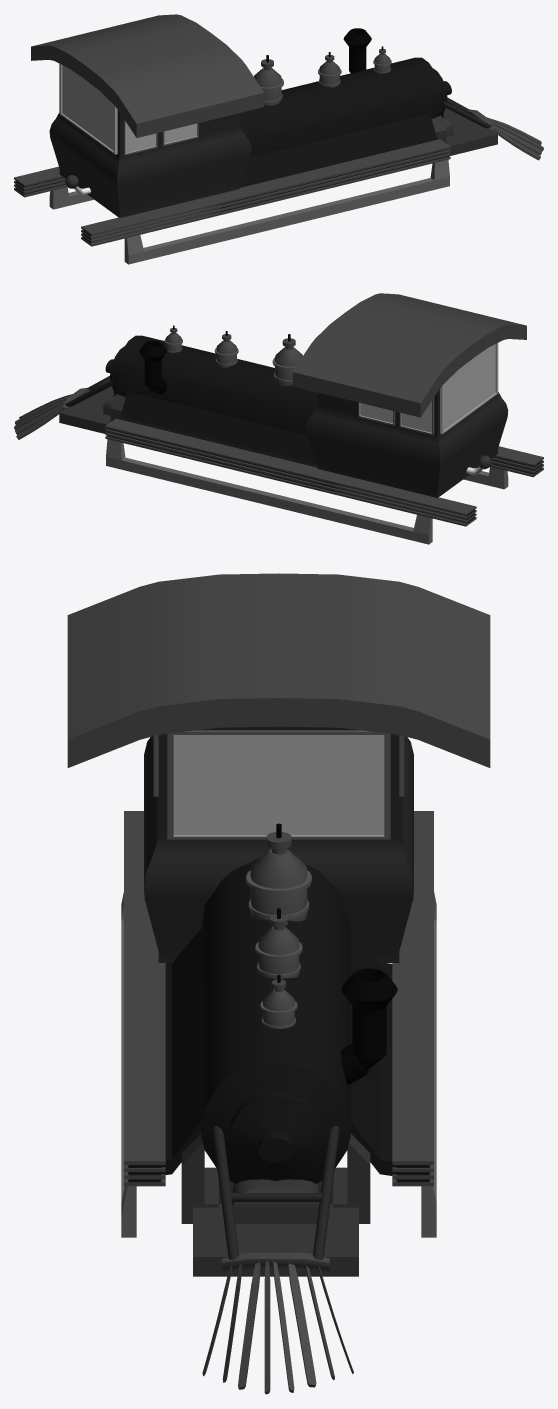
File: Tren.fbx
3 renders of one model, top to bottom at view 1: azimuth 30°, elevation 25°; view 2: azimuth 150°, elevation 25°; view 3: azimuth 270°, elevation 25°, orthographic. The views are drawn at different scales.
Visible parts, largest first — view 1: Train; view 2: Train; view 3: Train.
Boxes of the visible parts, x1,y1,x2,y2 form: Train: (14,14,543,264); Train: (14,293,543,544); Train: (67,573,490,1394).
Size of the model in its own units: 1049 by 390 by 395.
